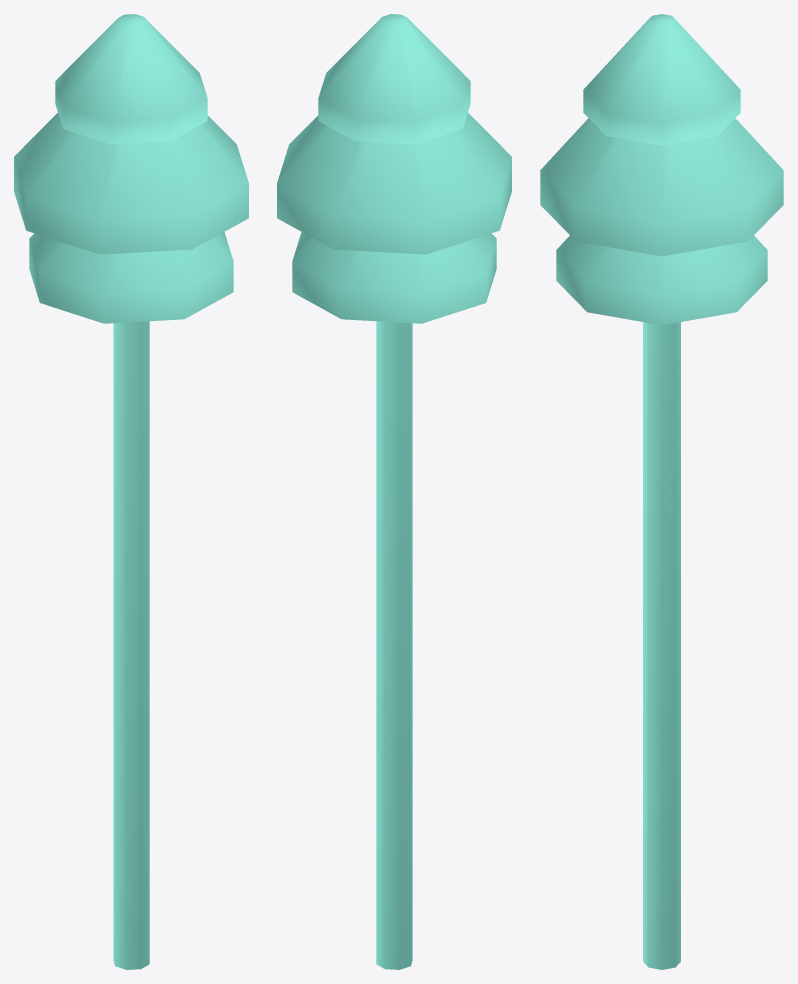
The model's file is tree08.fbx.
3 views of the same model, side by side, from view 1: azimuth 30°, elevation 25°; view 2: azimuth 150°, elevation 25°; view 3: azimuth 270°, elevation 25° (orthographic).
Visible parts, largest first — view 1: Circle.001; view 2: Circle.001; view 3: Circle.001.
Part boxes in pixels (box(x1,y1,x2,y2)): Circle.001: box(14, 14, 248, 969); Circle.001: box(277, 14, 511, 969); Circle.001: box(540, 14, 783, 969).
Size of the model in its own units: 7.53 by 32.2 by 7.53.
